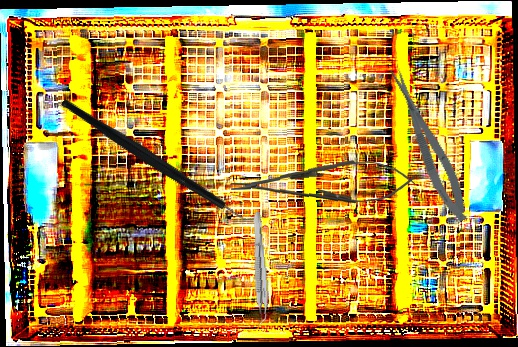Chopper: (58, 45, 267, 277)
Micro Scissor: (383, 61, 476, 227)
Needle Holder: (230, 156, 416, 209)
Tissue Forceps: (246, 211, 272, 326)
